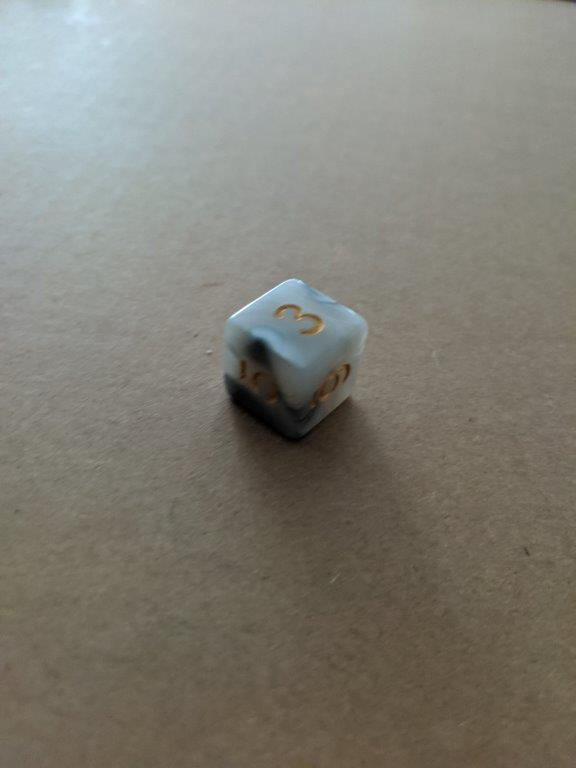d6-3: (222, 277, 370, 440)
